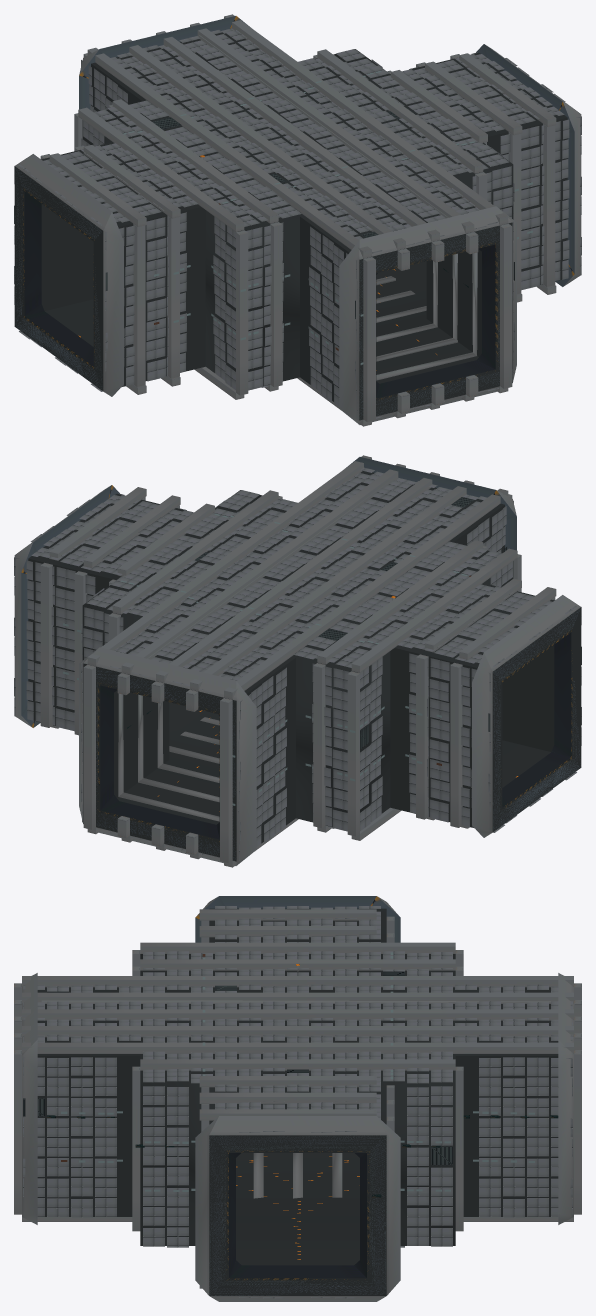
The model's file is kit_cross.glb.
3 views of the same model, one above another, from view 1: azimuth 30°, elevation 25°; view 2: azimuth 150°, elevation 25°; view 3: azimuth 270°, elevation 25° (orthographic).
Visible parts, largest first — view 1: lod0; view 2: lod0; view 3: lod0.
Boxes of the visible parts, x1,y1,x2,y2 form: lod0: (14,14,581,426); lod0: (14,455,581,867); lod0: (14,896,581,1301).
Size of what is drawn, in the model's own units: 281 by 104 by 288.
1 material, 1 textured.
